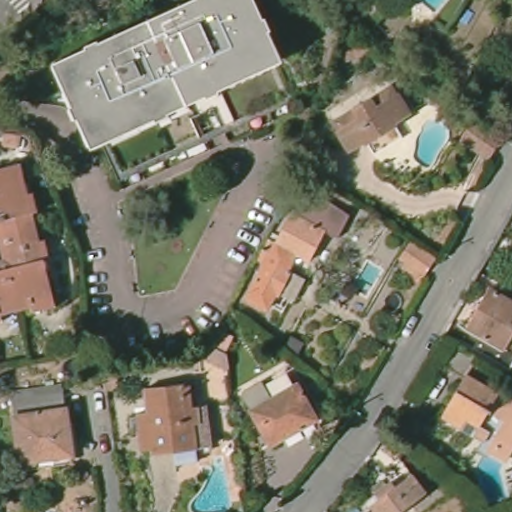pool: (188, 455, 235, 511), (414, 116, 455, 169), (470, 449, 512, 499), (353, 259, 381, 297), (413, 1, 452, 16)
